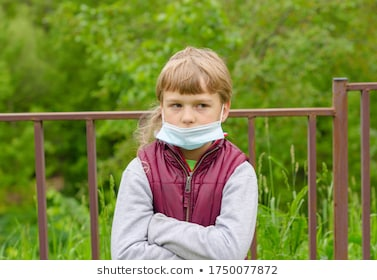mask_weared_incorrect: (166, 98, 215, 145)
